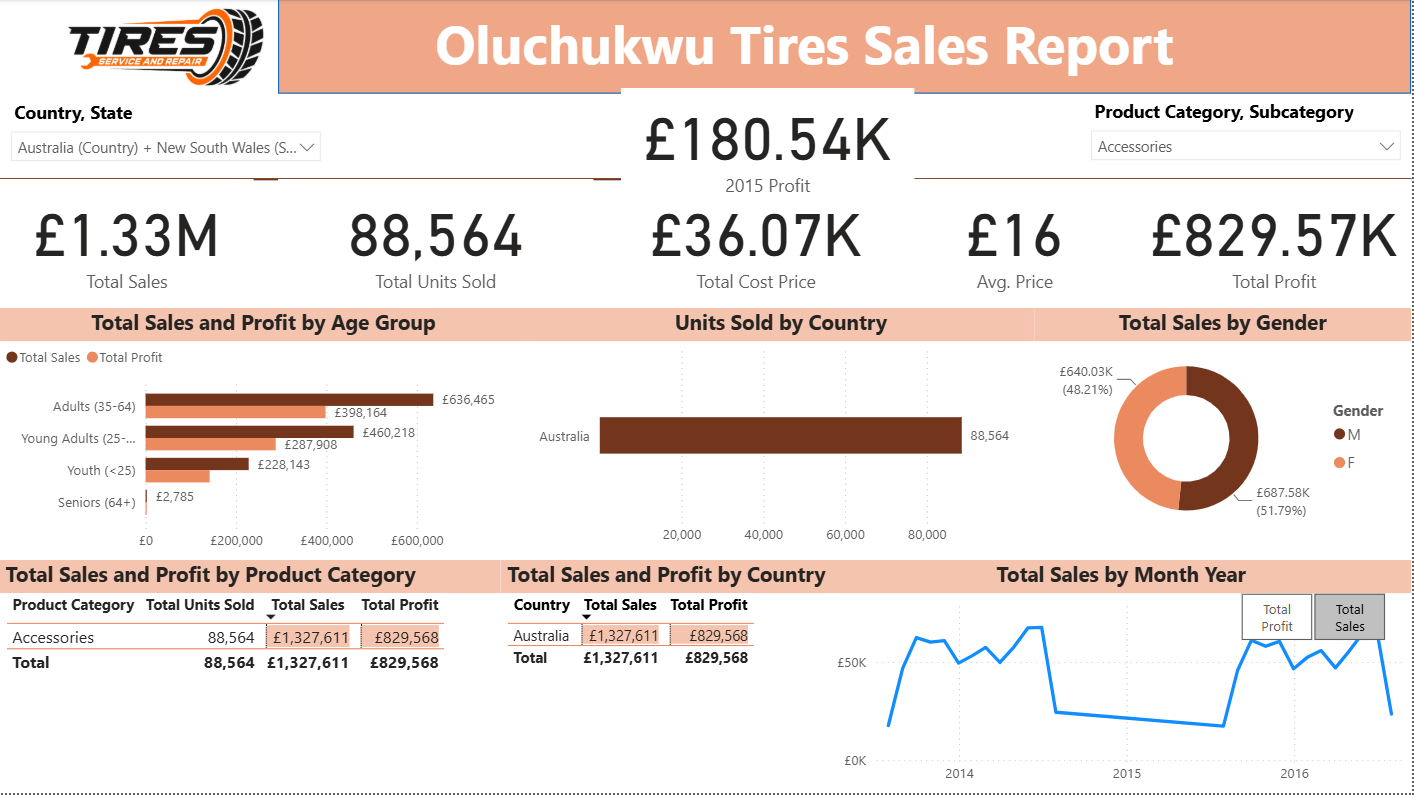

What the dashboard file says about the page in this screenshot:
{"tool":"powerbi","page":{"name":"Page 1","canvas":[1280,720],"ordinal":0},"visuals":[{"type":"image","box":[0,0,300.5,86.4],"z":0},{"type":"shape","box":[252.5,0,1027.5,85.8],"z":1000},{"type":"textbox","box":[358.1,1.4,742.4,86.4],"z":2000},{"type":"slicer","fields":{"Values":["Sales.Country","Sales.State"]},"box":[0,87.1,301,67.2],"z":3000},{"type":"slicer","fields":{"Values":["Sales.Product_Category","Sales.Sub_Category"]},"box":[979,85.8,301,67.2],"z":4000},{"type":"shape","box":[0,145.5,1280,34.8],"z":5000},{"type":"card","fields":{"Values":["Measures Table.Total Units Sold"]},"box":[252.5,163,286.1,109.5],"z":6000},{"type":"card","fields":{"Values":["Measures Table.Total Sales"]},"box":[0,163,230.1,109.5],"z":7000},{"type":"card","fields":{"Values":["Measures Table.Total Profit"]},"box":[1031.2,163,248.8,109.5],"z":8000},{"type":"card","fields":{"Values":["Avg(Sales.Unit_Price)"]},"box":[808.6,163,222.7,109.5],"z":9000},{"type":"card","fields":{"Values":["Sum(Sales.Unit_Cost)"]},"box":[563.5,163,245.1,109.5],"z":10000},{"type":"clusteredBarChart","title":"Total Sales and Profit by Age Group","fields":{"Category":["Sales.Age_Group"],"Y":["Measures Table.Total Sales","Measures Table.Total Profit"]},"box":[0,279.9,477.7,228.9],"z":11000},{"type":"tableEx","title":"Total Sales and Profit by Product Category","fields":{"Values":["Sales.Product_Category","Measures Table.Total Units Sold","Measures Table.Total Sales","Measures Table.Total Profit"]},"box":[0,508.8,454,211.5],"z":12000},{"type":"donutChart","title":"Total Sales by Gender","fields":{"Category":["Sales.Customer_Gender"],"Y":["Measures Table.Total Sales"]},"box":[937.9,279.9,342.1,211.5],"z":13000},{"type":"tableEx","title":"Total Sales and Profit by Country","fields":{"Values":["Sales.Country","Measures Table.Total Sales","Measures Table.Total Profit"]},"box":[454,508.8,299.8,211.5],"z":14000},{"type":"clusteredBarChart","fields":{"Category":["Sales.Country"],"Y":["Measures Table.Total Units Sold"]},"box":[477.7,279.9,460.3,223.9],"z":15000},{"type":"lineChart","fields":{"Category":["Sales.Date.Variation.Date Hierarchy.Year"],"Y":["Measures Table.Total Sales"]},"box":[753.8,508.8,526.2,211.5],"z":16000},{"type":"lineChart","fields":{"Category":["Date Table.Month Year"],"Y":["Measures Table.Total Sales"]},"box":[753.8,508.8,526.2,211.5],"z":17000},{"type":"slicer","fields":{"Values":["Parameters Trend Line Chart.Parameters Trend Line Chart"]},"box":[1099.6,532.4,180.4,52.2],"z":18000},{"type":"card","fields":{"Values":["Measures Table.2015 Profit"]},"box":[563.5,80.9,266.2,99.5],"z":19000}]}

Visuals, with their boxes in screenshot pixels (x1, y1, x2, y2), scaled from the page's 1280x720 canvas onto the 1414x796 screenshot:
image: [0,0,332,96]
shape: [279,0,1413,95]
textbox: [396,2,1216,97]
slicer - Sales.Country x Sales.State: [0,96,333,171]
slicer - Sales.Product_Category x Sales.Sub_Category: [1081,95,1413,169]
shape: [0,161,1413,199]
card - Measures Table.Total Units Sold: [279,180,595,301]
card - Measures Table.Total Sales: [0,180,254,301]
card - Measures Table.Total Profit: [1139,180,1413,301]
card - Avg(Sales.Unit_Price): [893,180,1139,301]
card - Sum(Sales.Unit_Cost): [622,180,893,301]
"Total Sales and Profit by Age Group" clusteredBarChart: [0,309,528,563]
"Total Sales and Profit by Product Category" tableEx: [0,563,502,795]
"Total Sales by Gender" donutChart: [1036,309,1413,543]
"Total Sales and Profit by Country" tableEx: [502,563,833,795]
clusteredBarChart - Sales.Country x Measures Table.Total Units Sold: [528,309,1036,557]
lineChart - Sales.Date.Variation.Date Hierarchy.Year x Measures Table.Total Sales: [833,563,1413,795]
lineChart - Date Table.Month Year x Measures Table.Total Sales: [833,563,1413,795]
slicer - Parameters Trend Line Chart.Parameters Trend Line Chart: [1215,589,1413,646]
card - Measures Table.2015 Profit: [622,89,917,199]
